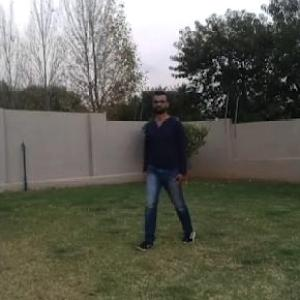follow: (142, 96, 176, 232)
